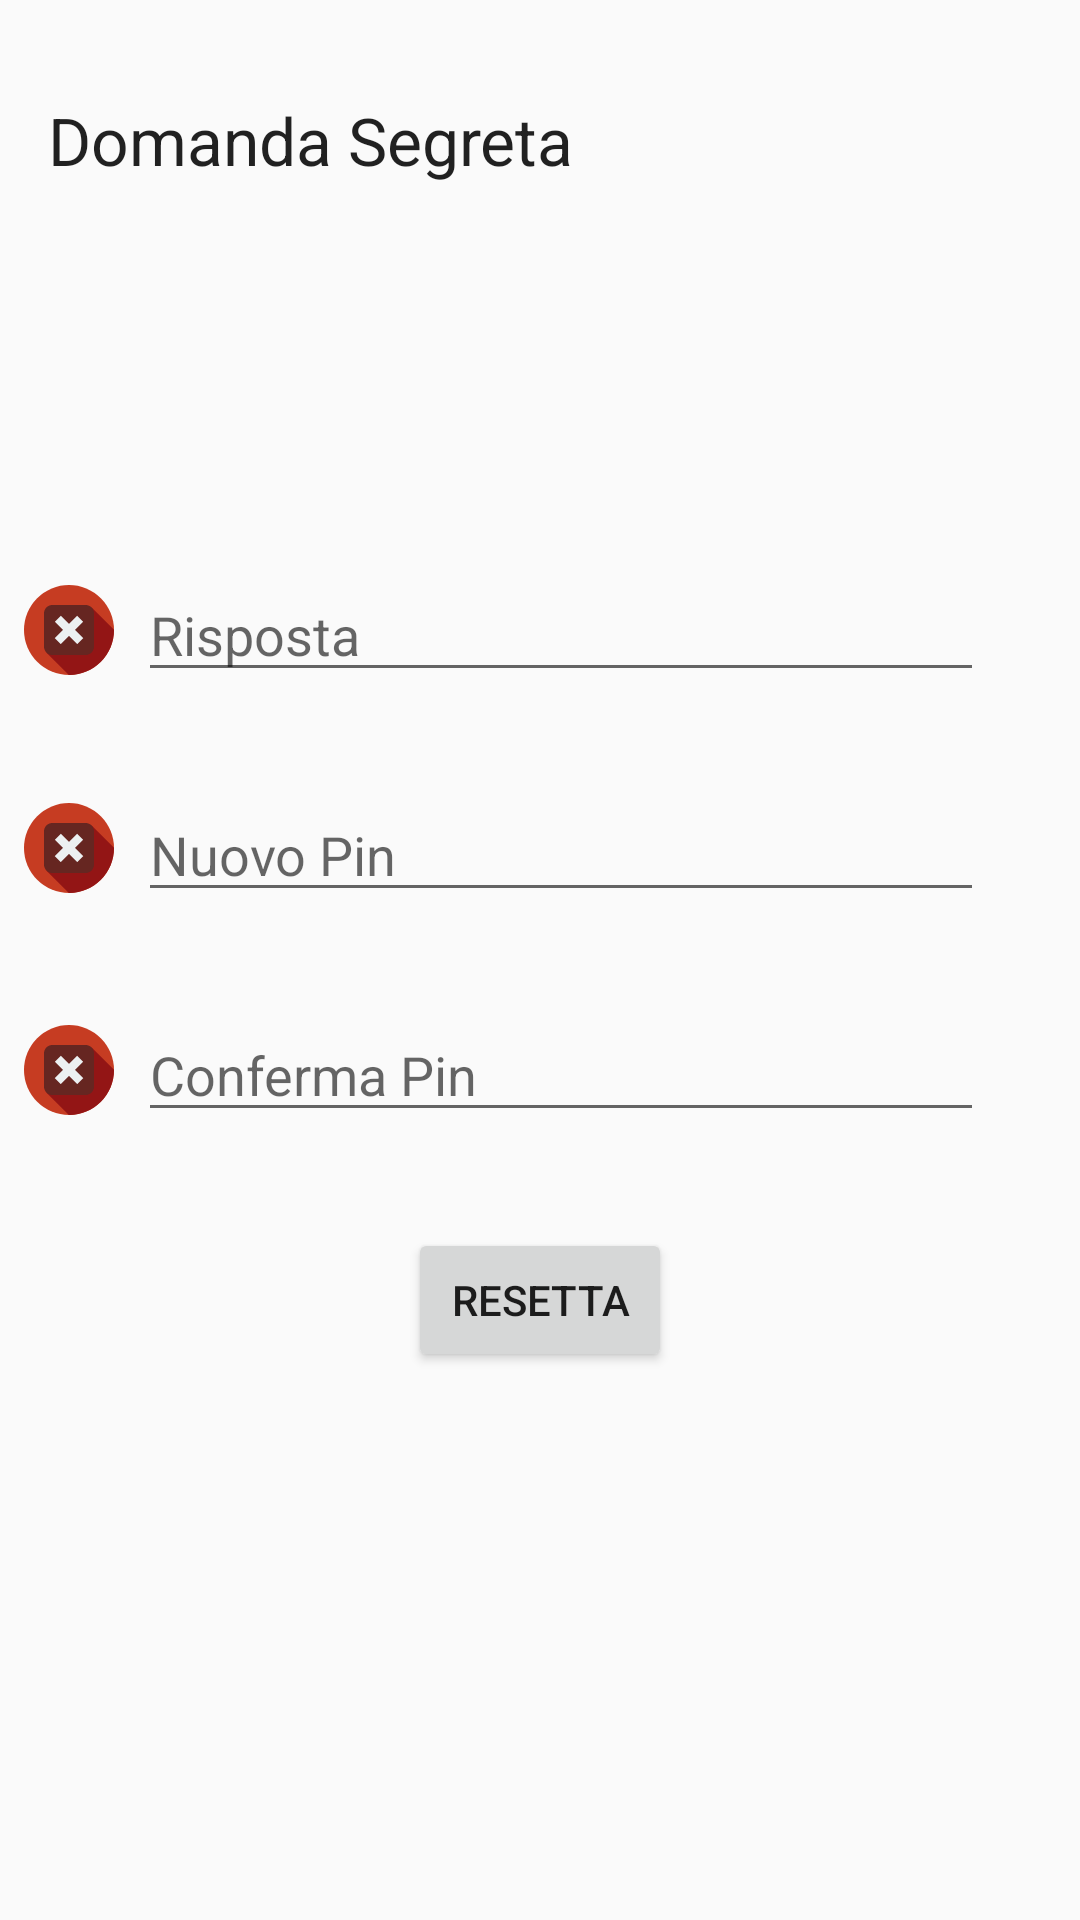

Icon click points for this 1080px x 1920px phone screenshot, format point (x, y):
unchecked: point (69, 630), point (69, 848), point (69, 1070)
